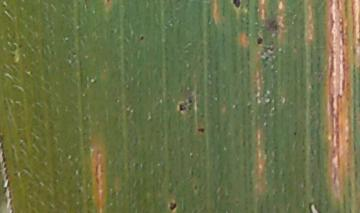tarspot: (175, 92, 194, 114), (254, 35, 266, 48), (167, 200, 178, 213), (195, 125, 207, 136), (230, 1, 243, 10), (137, 32, 146, 42)
